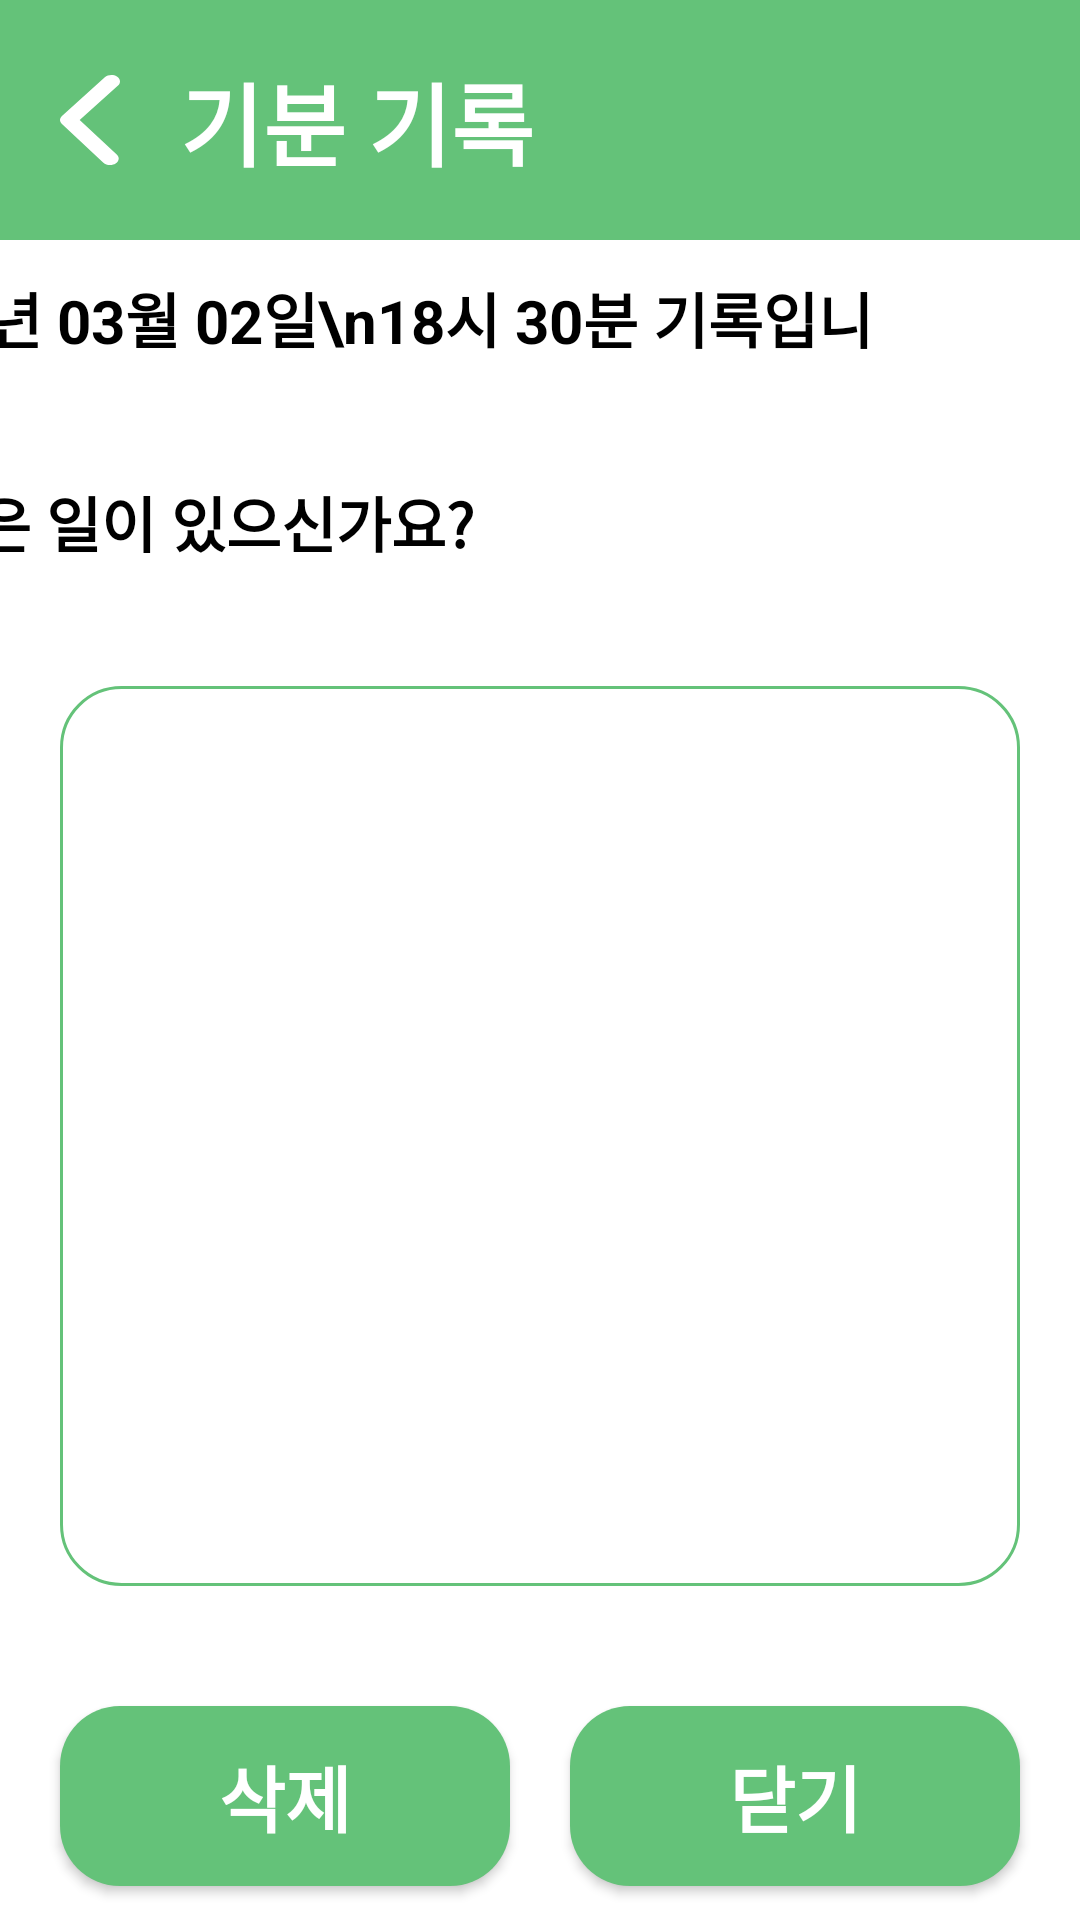

Where icons sit on this 1080px×1920px app screen, as (x1, y1, x2, y2):
back: (60, 75, 120, 165)
